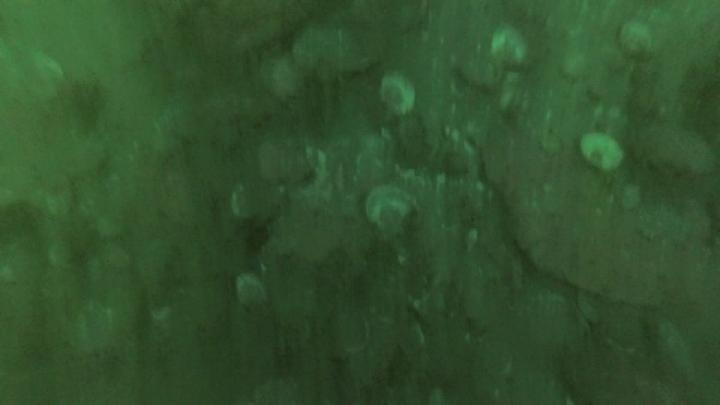scallop: (255, 130, 319, 189), (362, 184, 418, 239), (577, 130, 627, 174), (376, 70, 418, 119), (487, 24, 531, 70), (616, 19, 657, 58), (232, 271, 270, 311)
